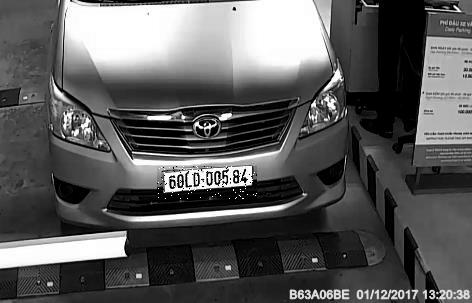License-plate: (158, 168, 258, 201)
